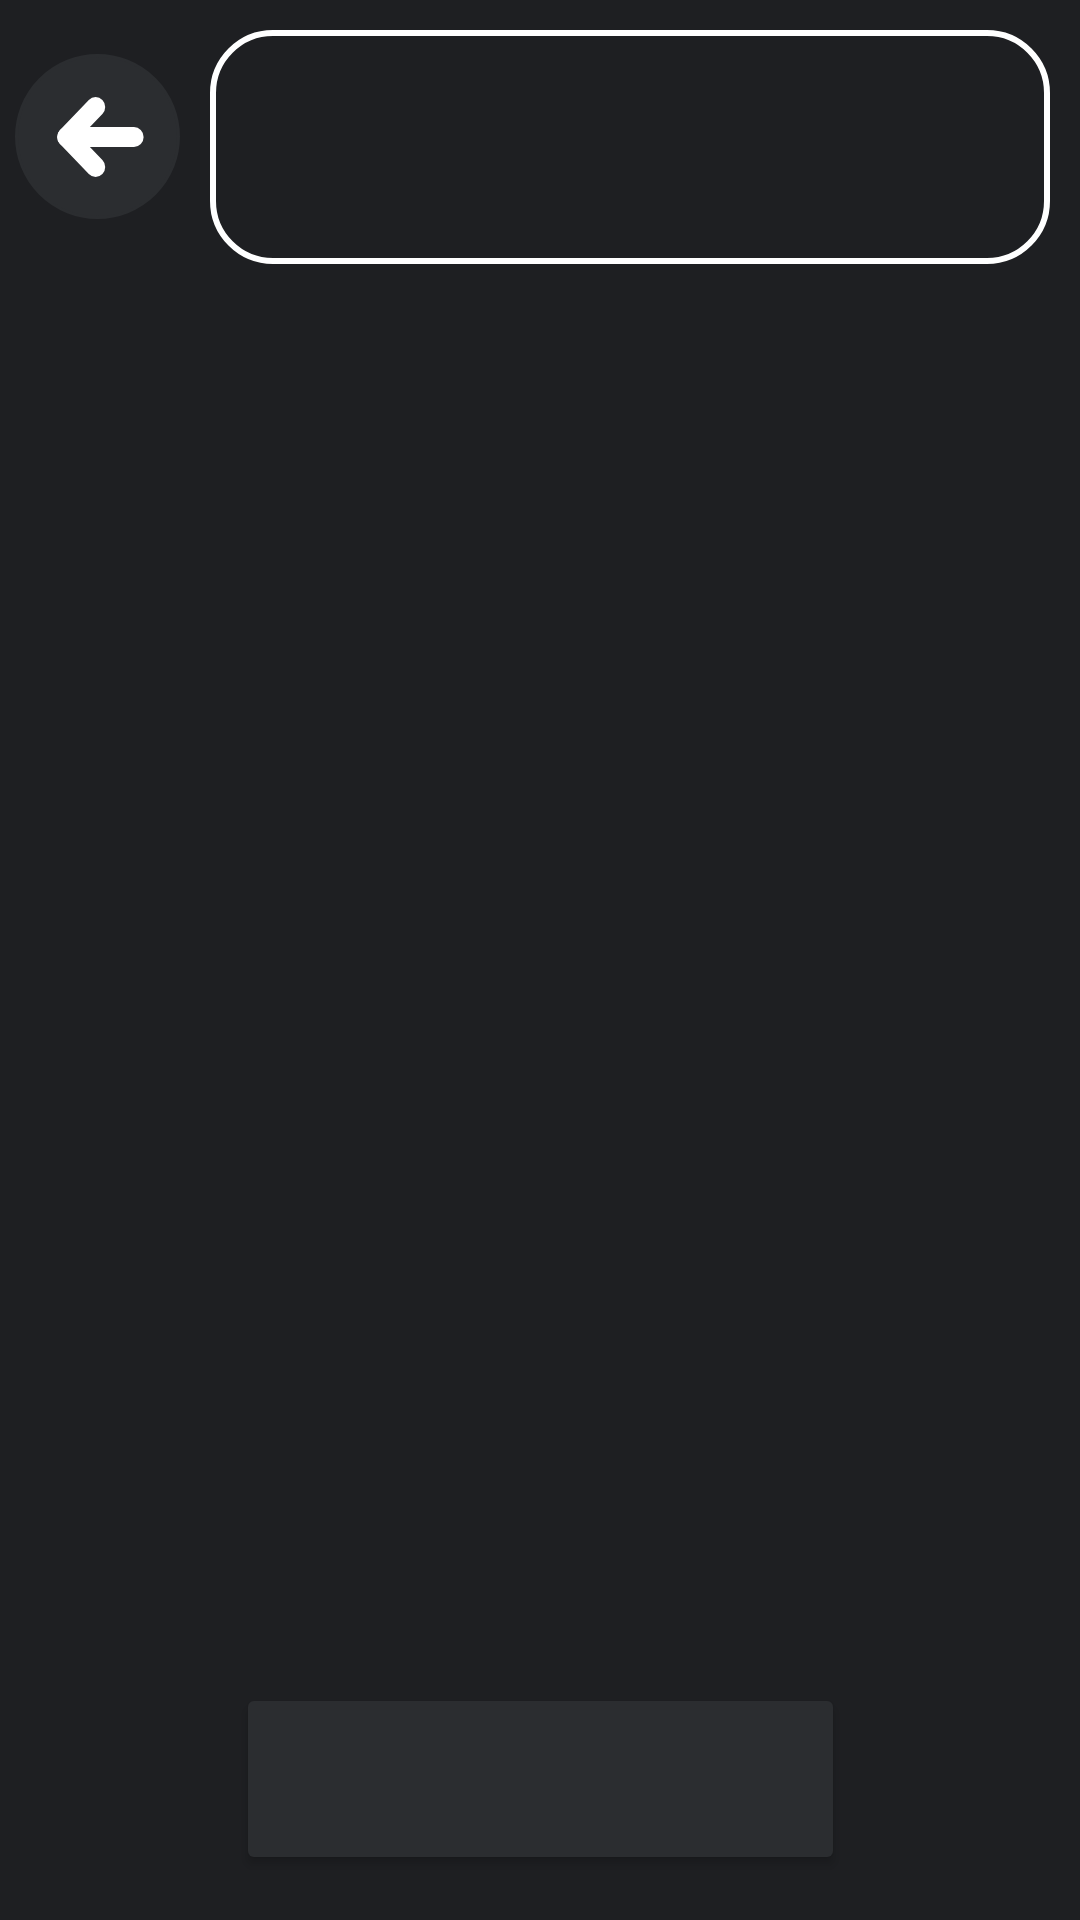

Where to tap for icons on this 1080×1920 app screen, as (x=x, y=y):
back: (x=97, y=136)
